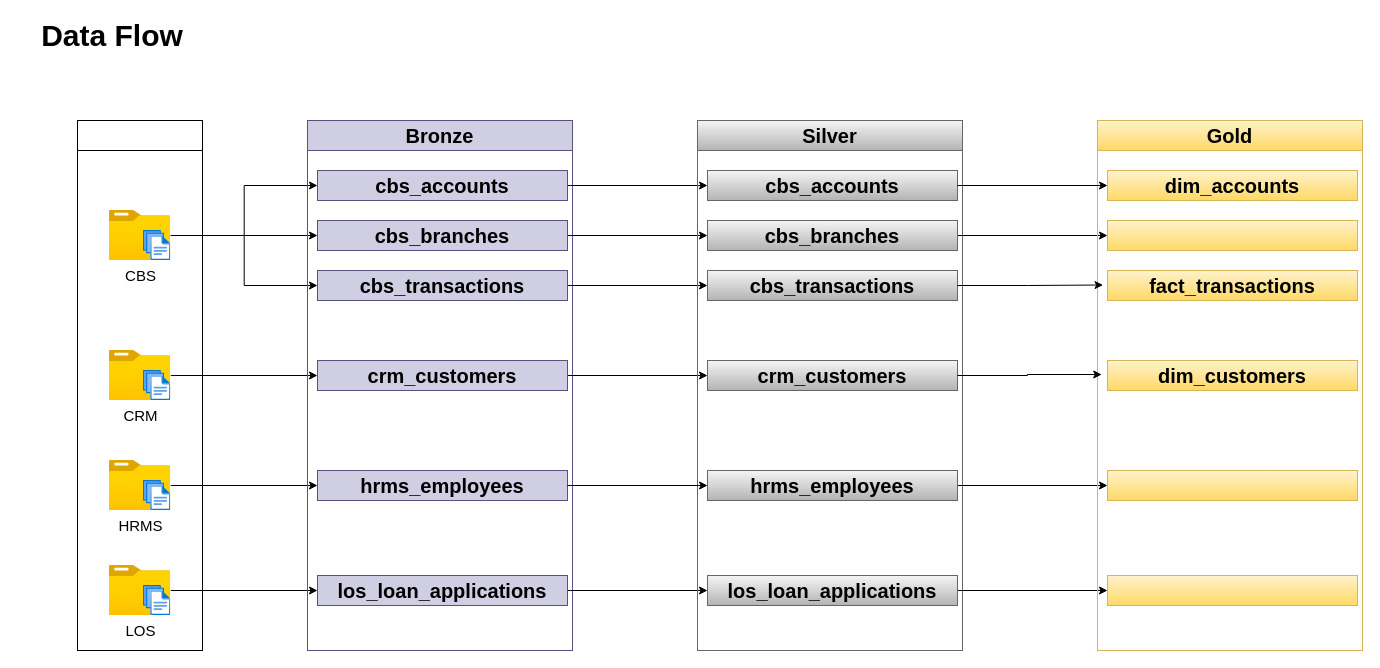
Image size: 1380x668. Some labels were removed from this diagram. Here are the shapes that lost their labels. From the top down, the centre of each, then its label:
(x=139, y=135): Sources
(x=1232, y=235): dim_branches
(x=1232, y=485): dim_employees
(x=1232, y=590): fact_loan_applications
